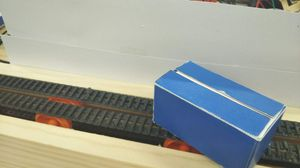box3: (152, 59, 286, 168)
